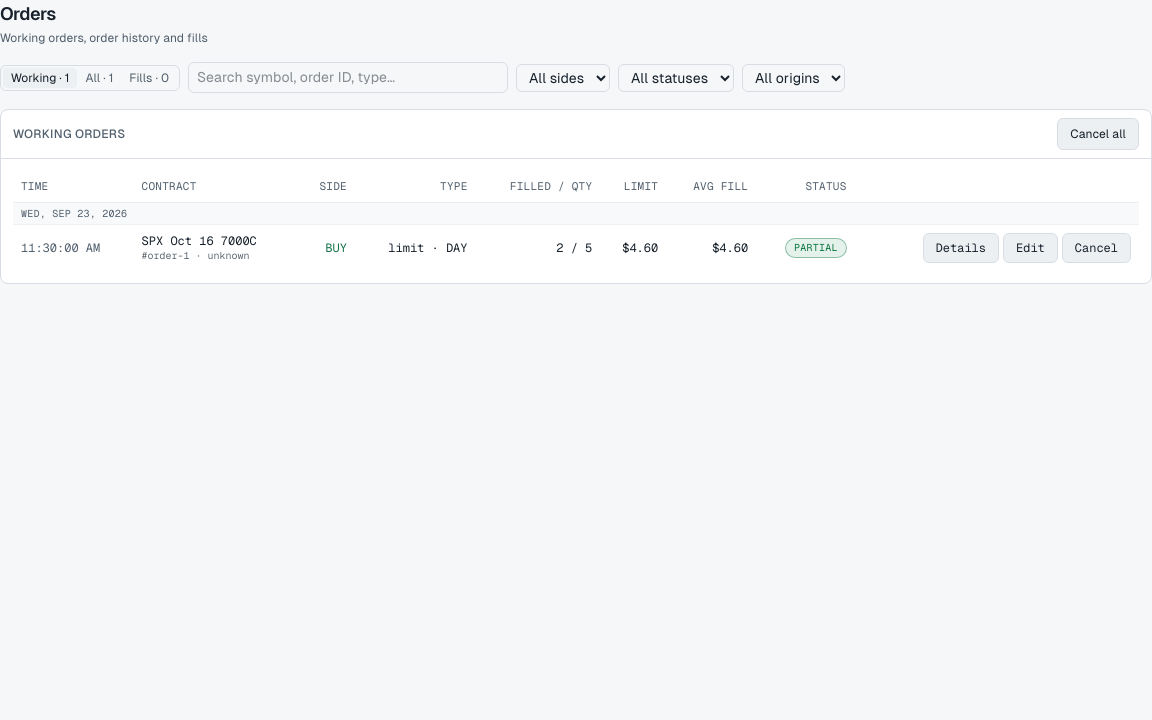
Test: confirms before cancelling and keeps the last result on empty Working (all: true)
Click the button "Cancel all" at (1098, 134), box [1057,118,1139,150]
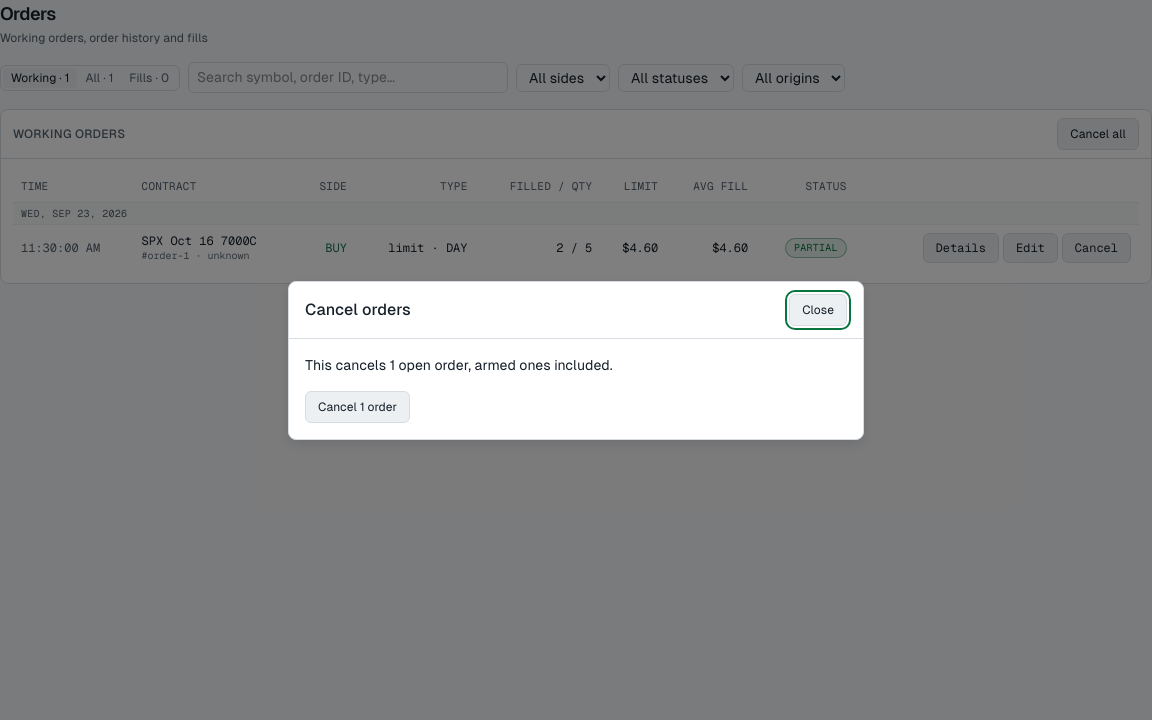
Expected: the dialog is shown, [288,280,864,440]
Expected: the button "Close" is shown
Click the button "Close" at (818, 310), box [789,294,847,326]
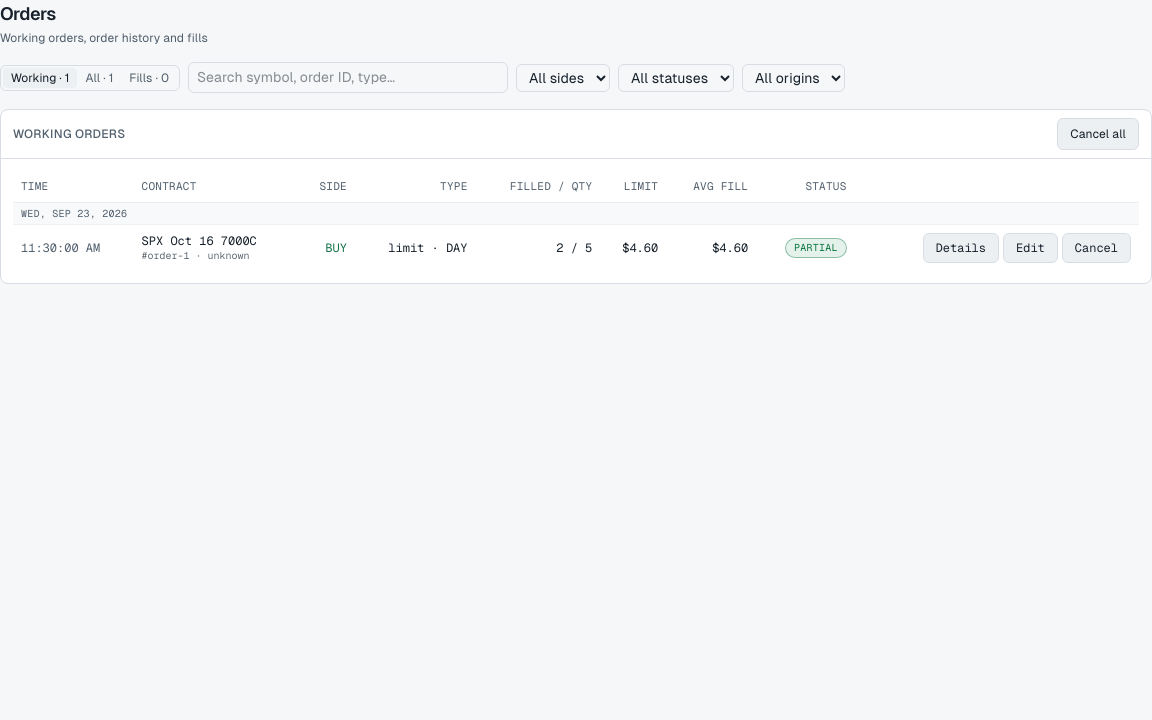
Click the button "Cancel all" at (1098, 134), box [1057,118,1139,150]
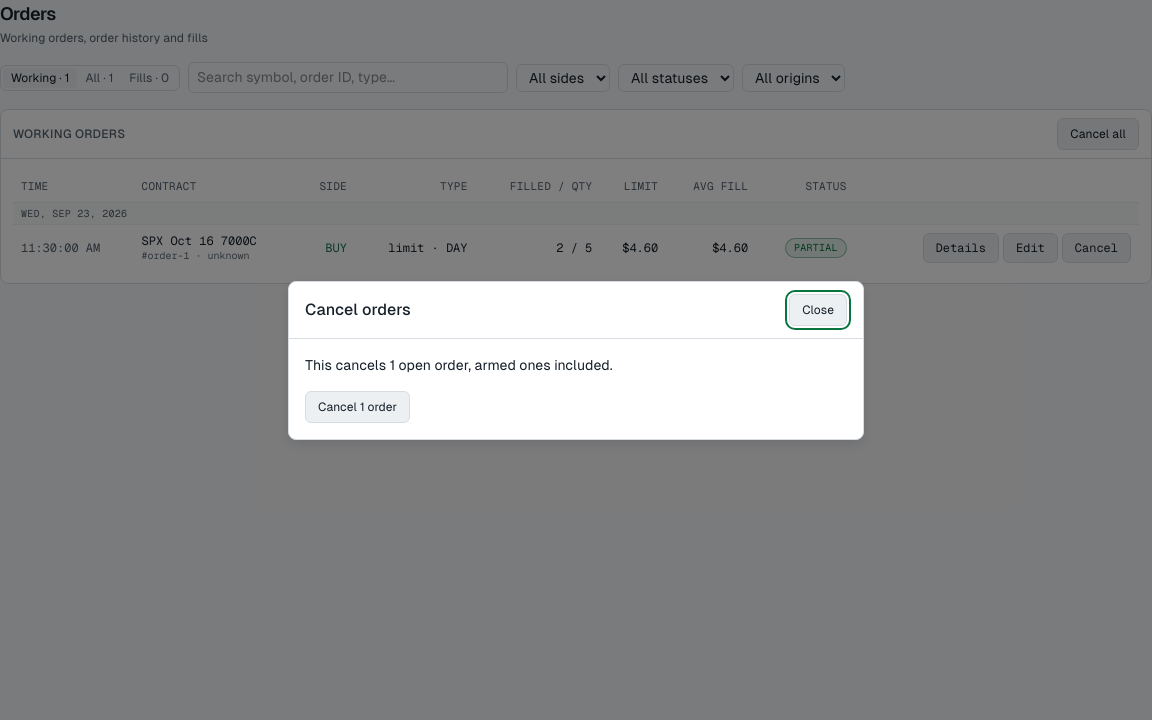
Expected: the button "Cancel 1 order" is shown
Click the button "Cancel 1 order" at (358, 406), box [305,390,410,422]
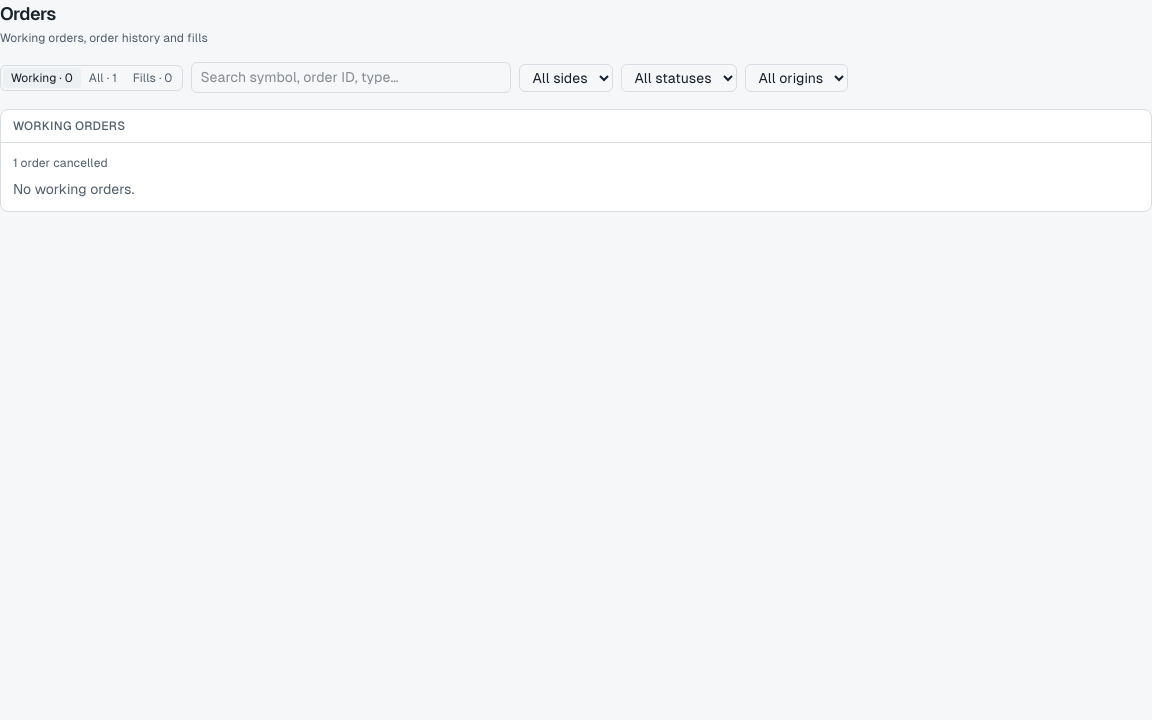
Expected: the text "No working orders." is shown, [13,181,134,197]
Expected: the message "1 order cancelled" is shown, [13,156,108,170]
Expected: the dialog is gone
